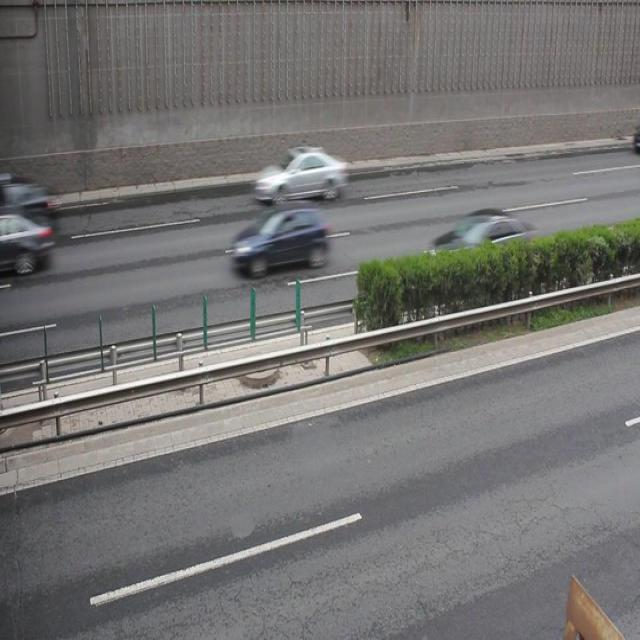car: (429, 205, 536, 289), (228, 202, 330, 274), (252, 145, 347, 206), (0, 204, 54, 276), (1, 166, 56, 225)
